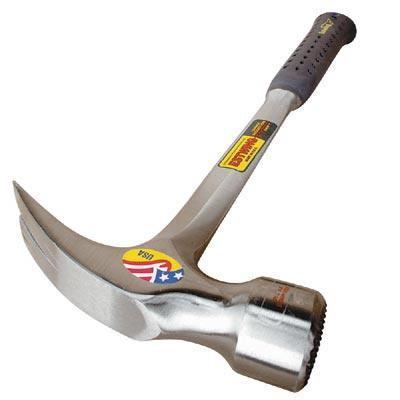hammer: (8, 9, 357, 393)
